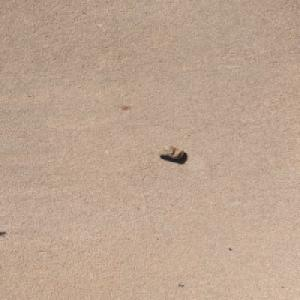Rock: (155, 144, 184, 159)
